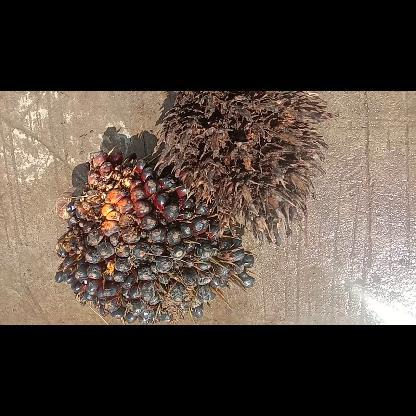Janjang kosong: (153, 91, 331, 247)
TBS mentah: (55, 146, 261, 324)
